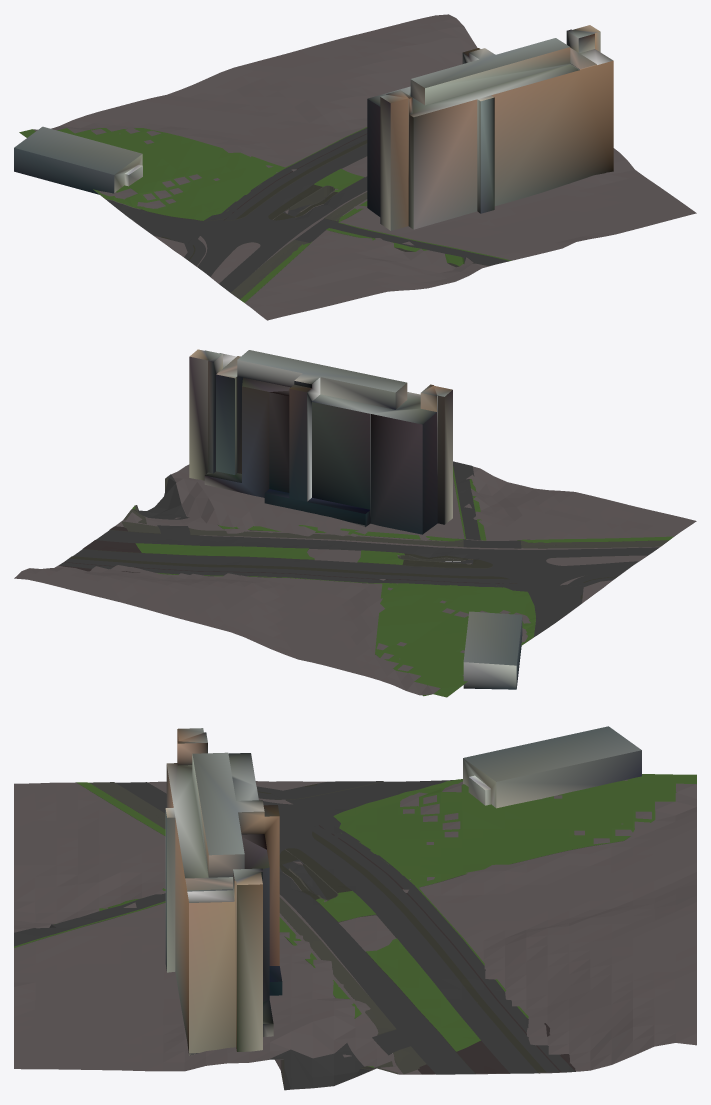
3 views of the same model, one above another, from view 1: azimuth 30°, elevation 25°; view 2: azimuth 150°, elevation 25°; view 3: azimuth 270°, elevation 25° (orthographic). The views are drawn at different scales.
Parts seen in each view (by area): view 1: c_m19_p03; view 2: c_m19_p03; view 3: c_m19_p03.
Part boxes in pixels (x1=…): c_m19_p03: x1=14, y1=14, x2=696, y2=320; c_m19_p03: x1=14, y1=349, x2=696, y2=697; c_m19_p03: x1=14, y1=726, x2=696, y2=1090.
Bounding box in the file's own units: 139 × 40.93 × 128.
